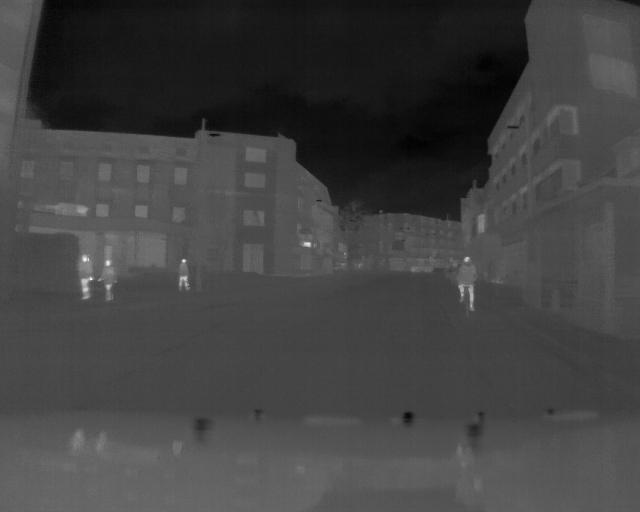person: (456, 255, 478, 322), (76, 250, 96, 310), (100, 256, 118, 310), (176, 256, 189, 295)
